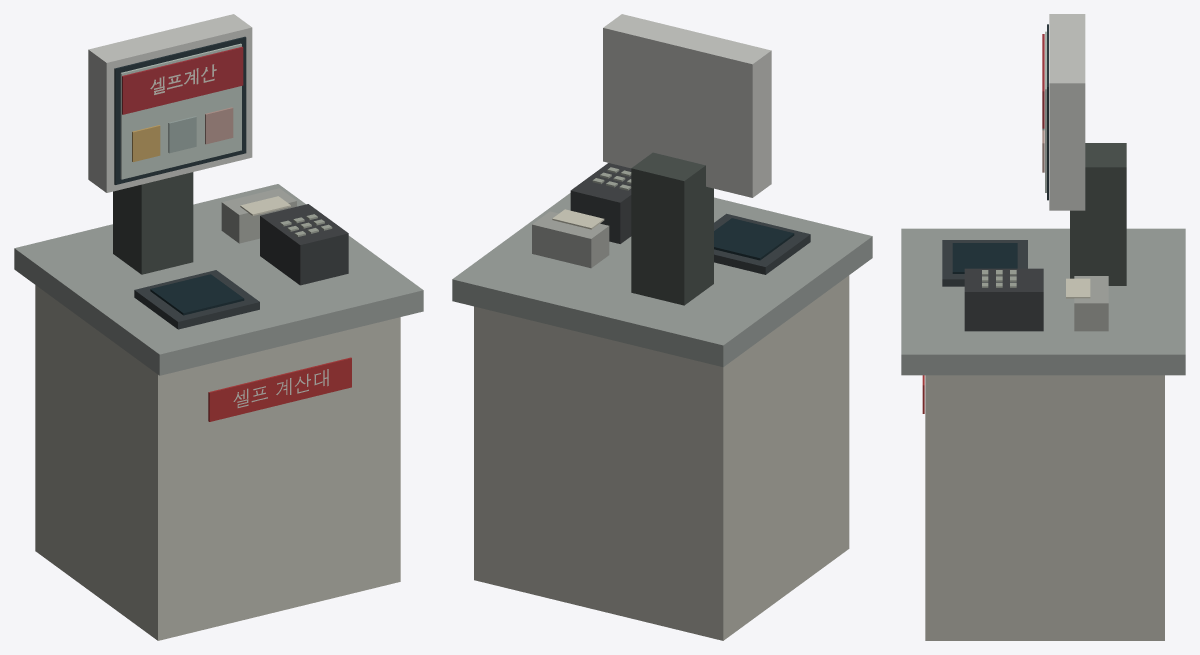
The model's file is SelfCheckout.glb.
3 views of the same model, side by side, from view 1: azimuth 30°, elevation 25°; view 2: azimuth 150°, elevation 25°; view 3: azimuth 270°, elevation 25° (orthographic). The views are drawn at different scales.
Visible parts, largest first — view 1: SelfCheckout; view 2: SelfCheckout; view 3: SelfCheckout.
Boxes of the visible parts, <box> form: SelfCheckout: <box>14,14,423,640</box>; SelfCheckout: <box>452,14,872,640</box>; SelfCheckout: <box>901,14,1185,640</box>.
Bounding box in the file's own units: 0.87 × 1.66 × 0.83.
